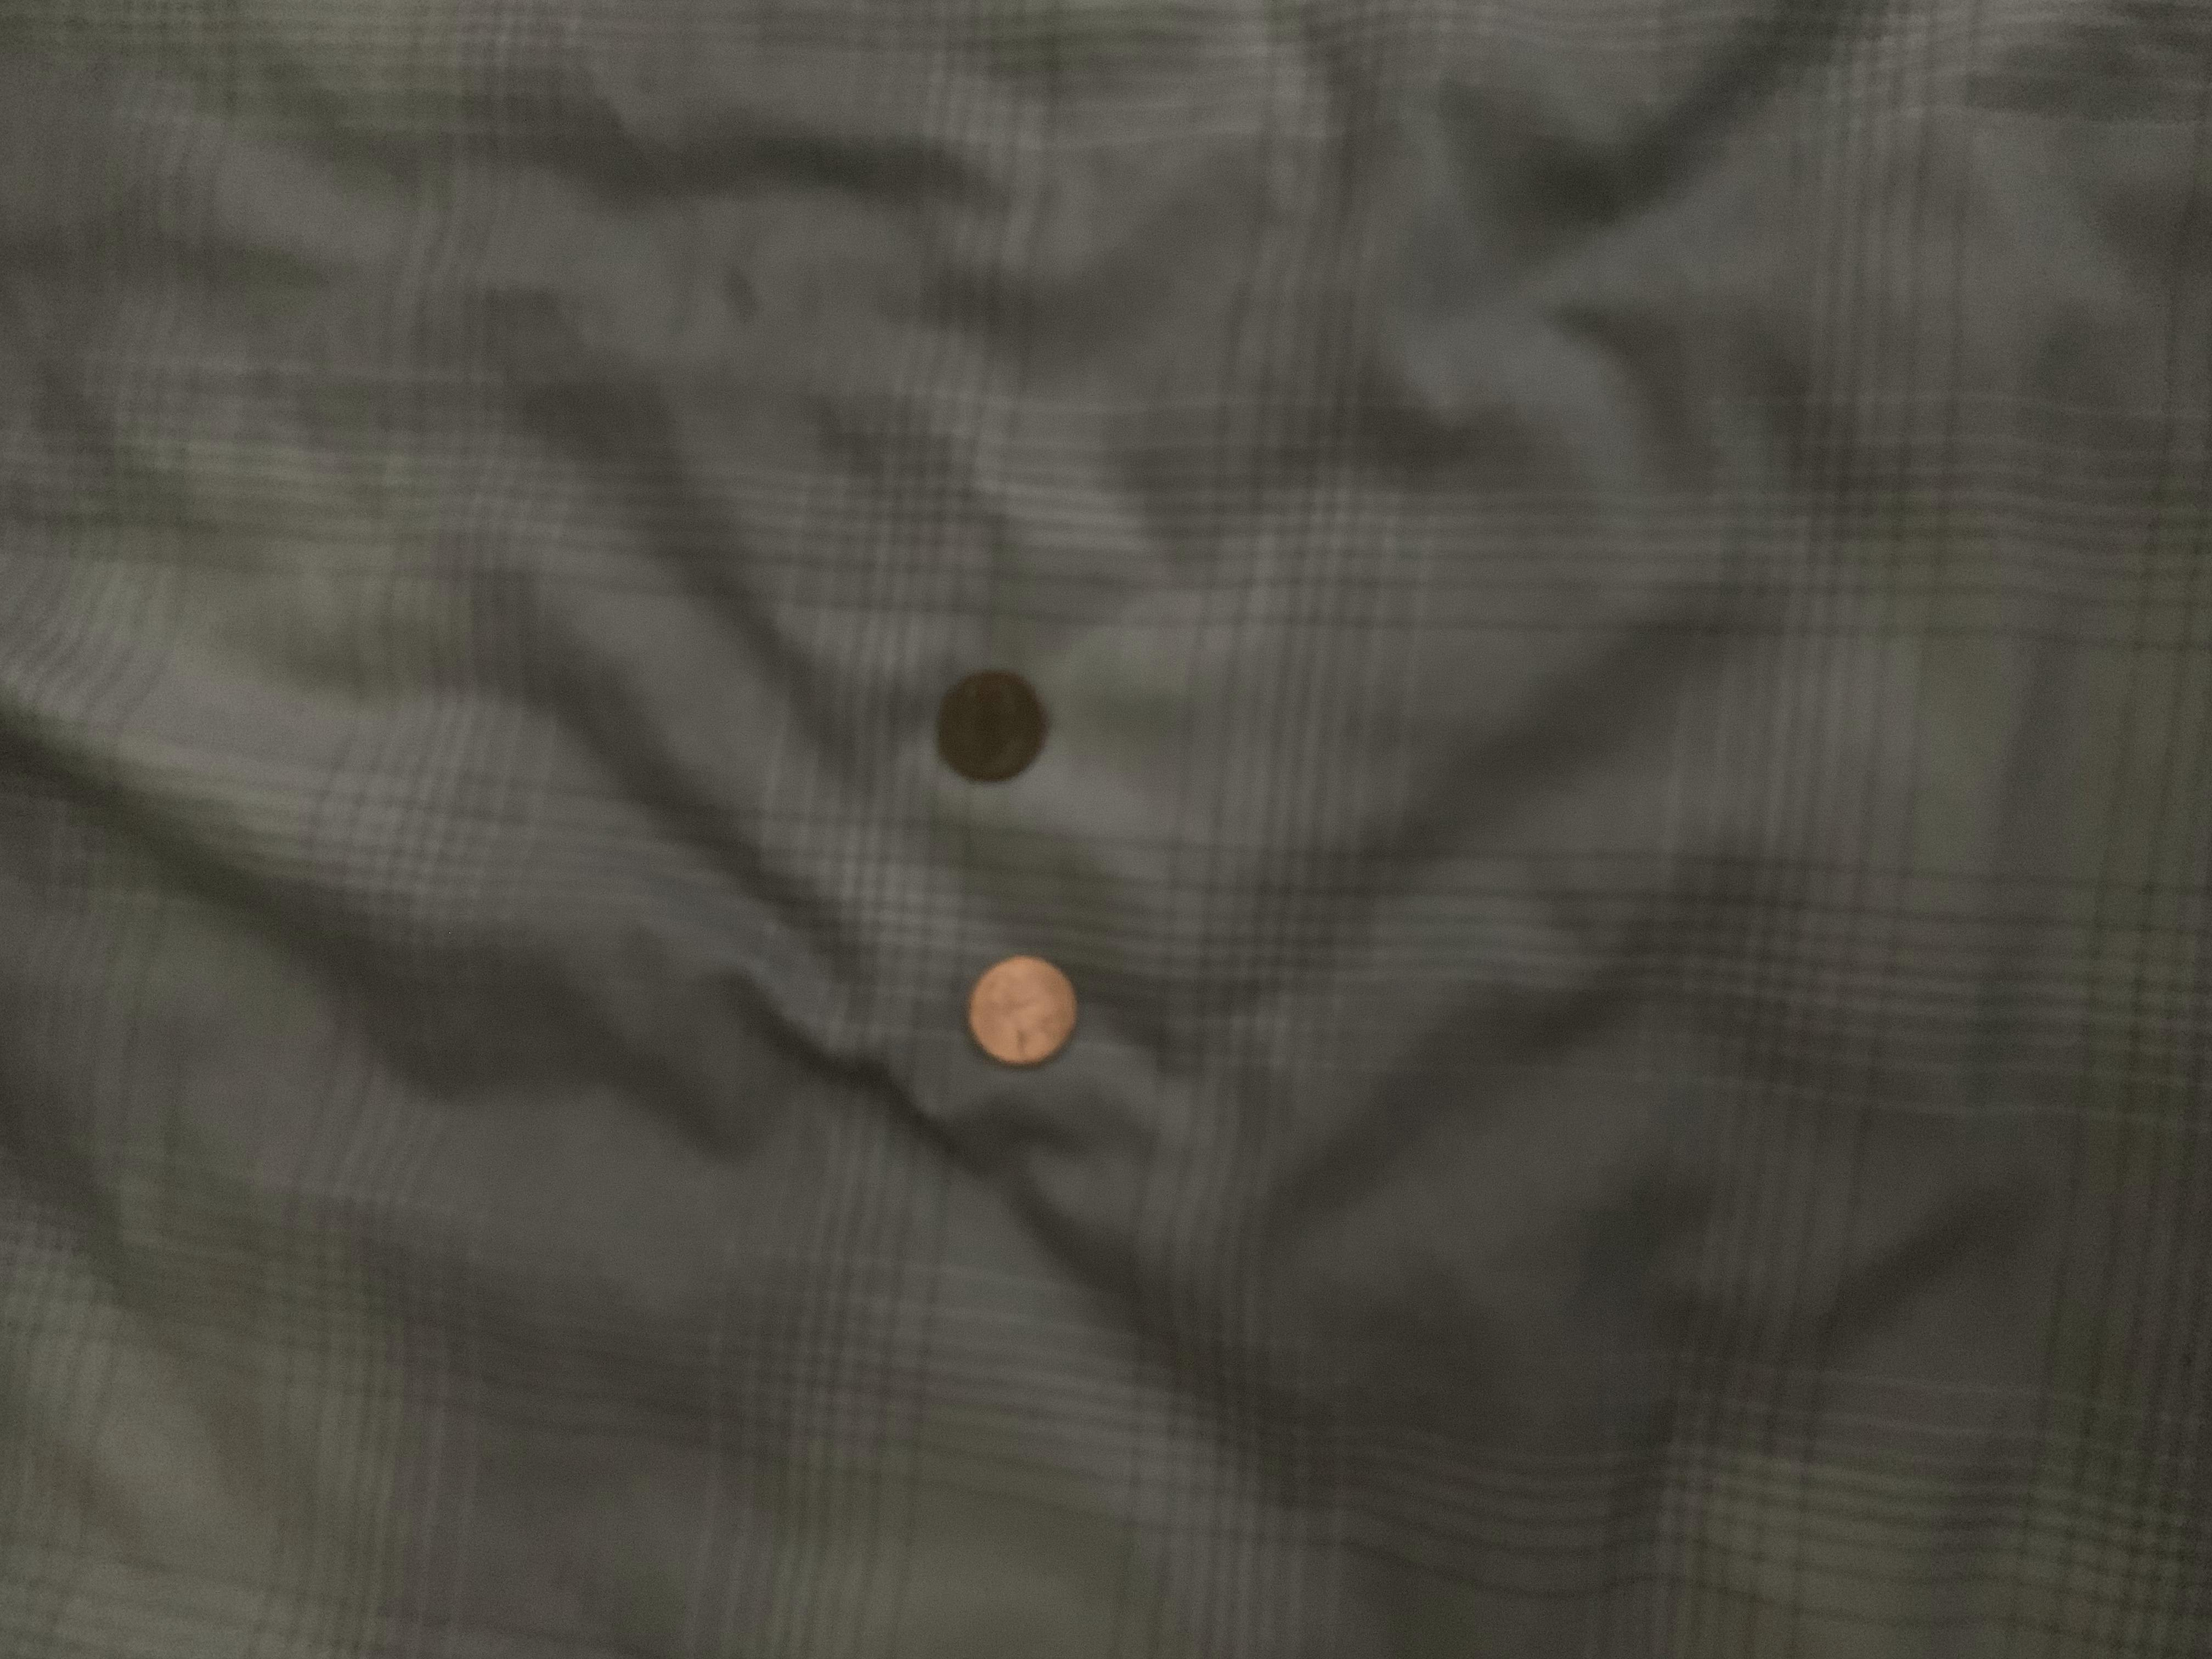Penny: (965, 950, 1082, 1072), (934, 666, 1052, 784)
